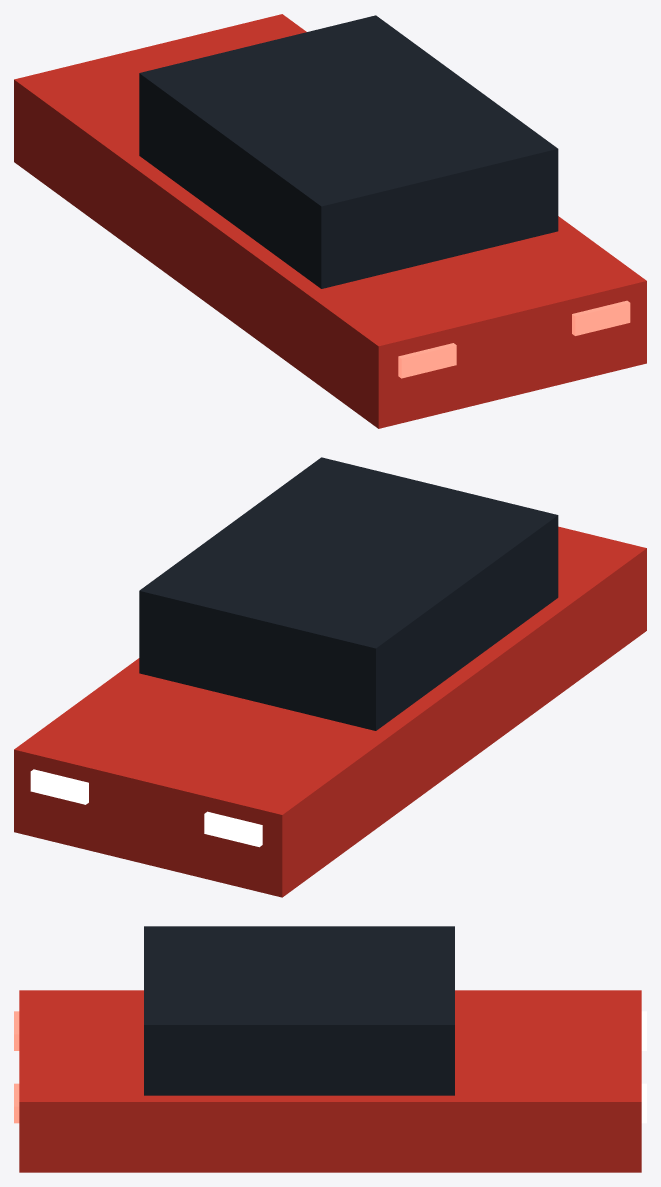
Rendered from car.glb.
3 renders of one model, top to bottom at view 1: azimuth 30°, elevation 25°; view 2: azimuth 150°, elevation 25°; view 3: azimuth 270°, elevation 25°, orthographic. The views are drawn at different scales.
Parts seen in each view (by area): view 1: Chassis, Cabin, TaillightR, TaillightL; view 2: Chassis, Cabin, HeadlightR, HeadlightL; view 3: Chassis, Cabin.
Part boxes in pixels (x1=…): Chassis: x1=14, y1=14, x2=646, y2=428; Cabin: x1=139, y1=15, x2=558, y2=288; TaillightR: x1=572, y1=300, x2=630, y2=335; TaillightL: x1=398, y1=343, x2=456, y2=378; Chassis: x1=14, y1=526, x2=646, y2=897; Cabin: x1=139, y1=457, x2=558, y2=730; HeadlightR: x1=30, y1=769, x2=88, y2=804; HeadlightL: x1=204, y1=811, x2=262, y2=847; Chassis: x1=19, y1=990, x2=641, y2=1172; Cabin: x1=144, y1=926, x2=454, y2=1095.
Size of the model in its own units: 1.7 by 1 by 4.07.
